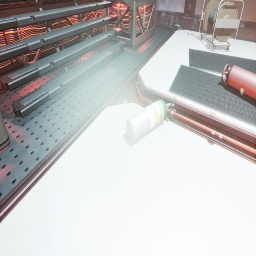0: (126, 100, 171, 142)
NitrogenTank ,: (221, 64, 256, 103)
